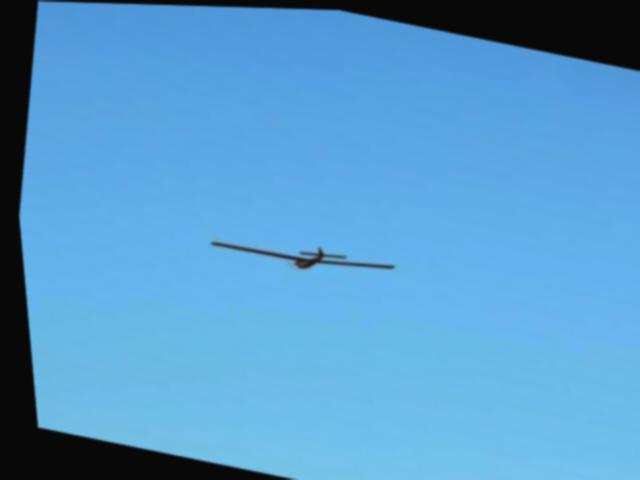iha: (200, 216, 403, 291)
